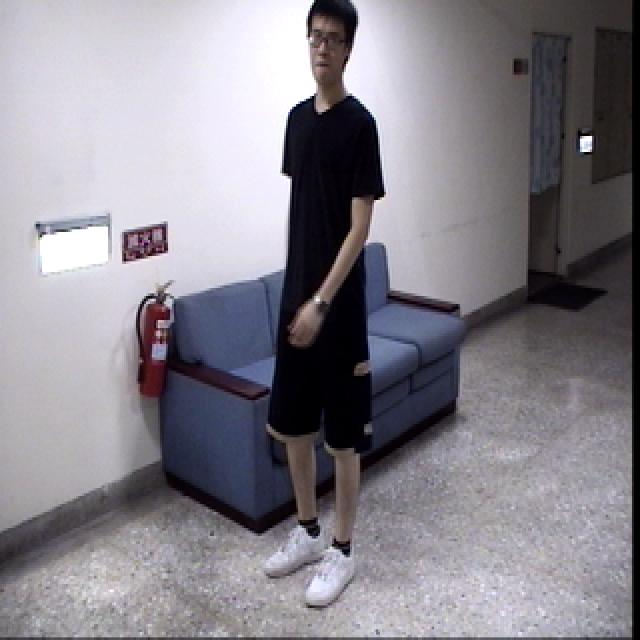stand: (250, 0, 396, 621)
